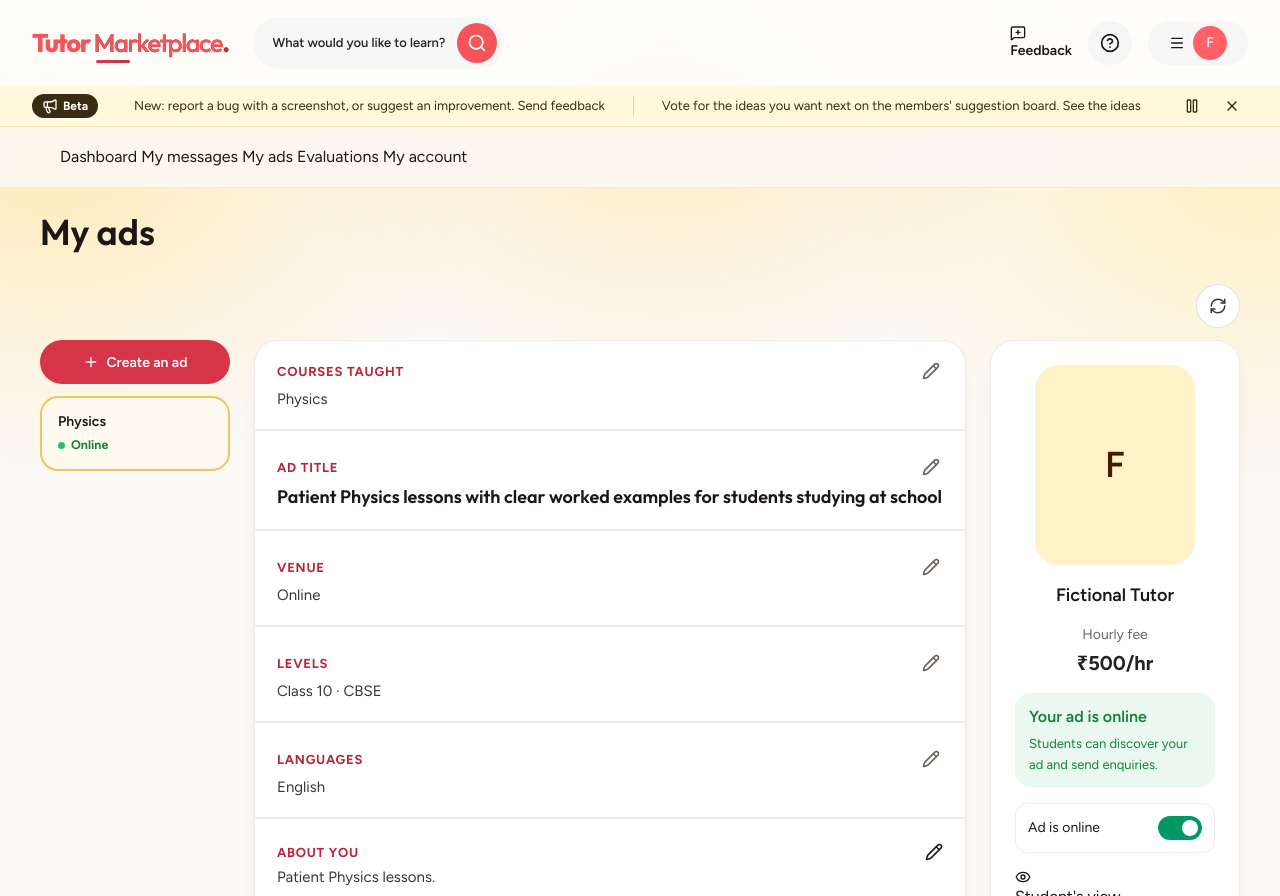
saves a photo-less private draft without publishing or altering existing ads
Click the button "Create an ad" at [135, 362], box [40,340,230,384]
(page scrolled)
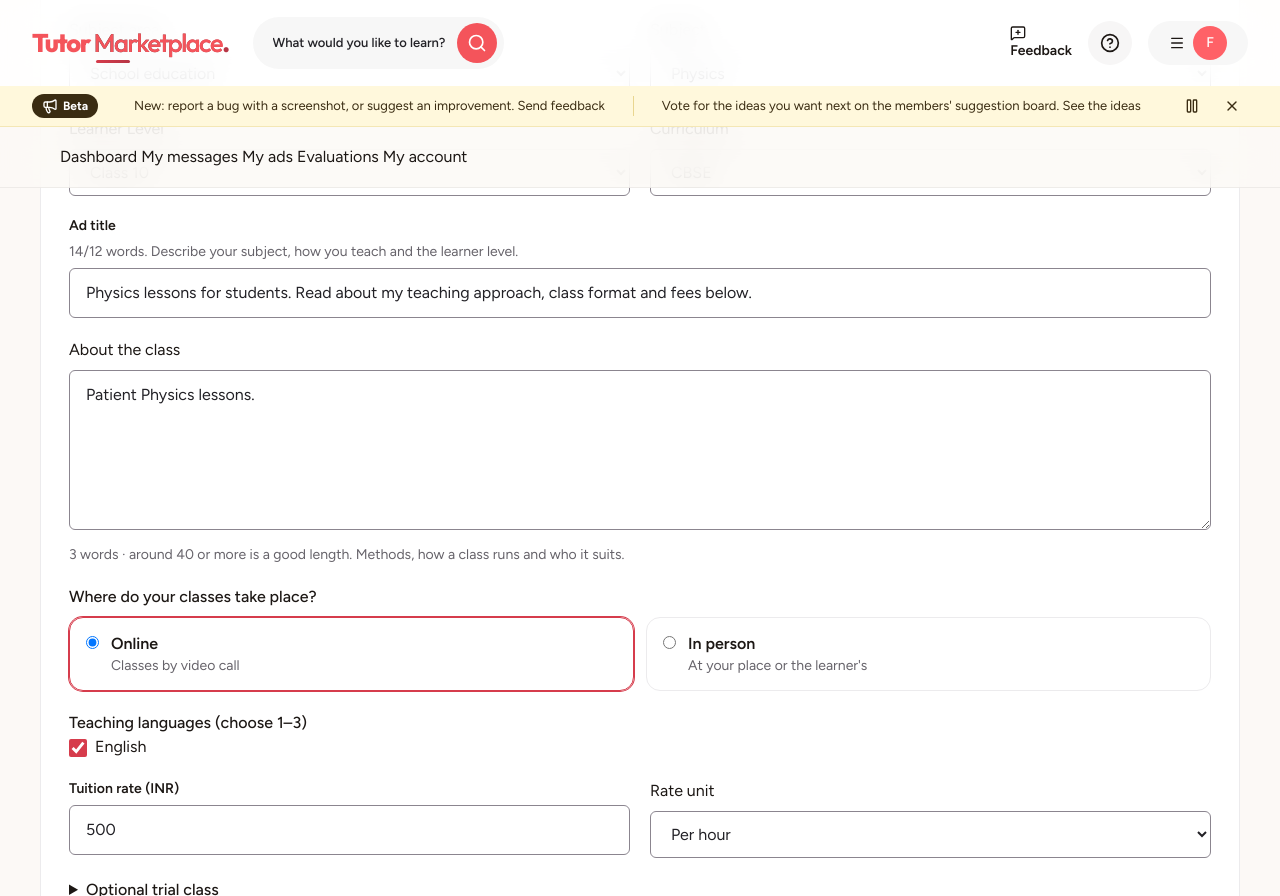
Replace the text in the text box labelled "About the class" with "A different class description." at [640, 450], box [69,370,1211,530]
(page scrolled)
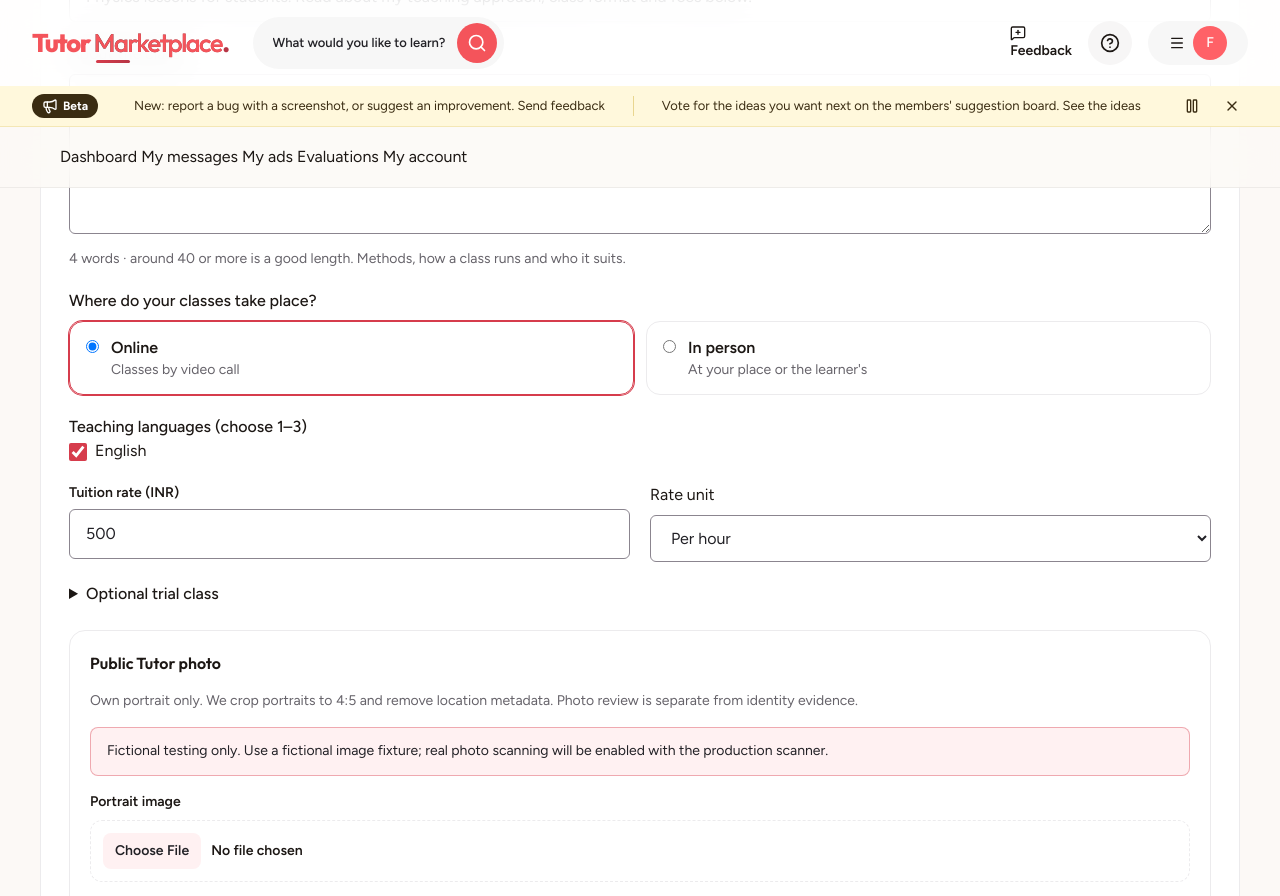
Submit the form named "Save as draft"
(page scrolled)
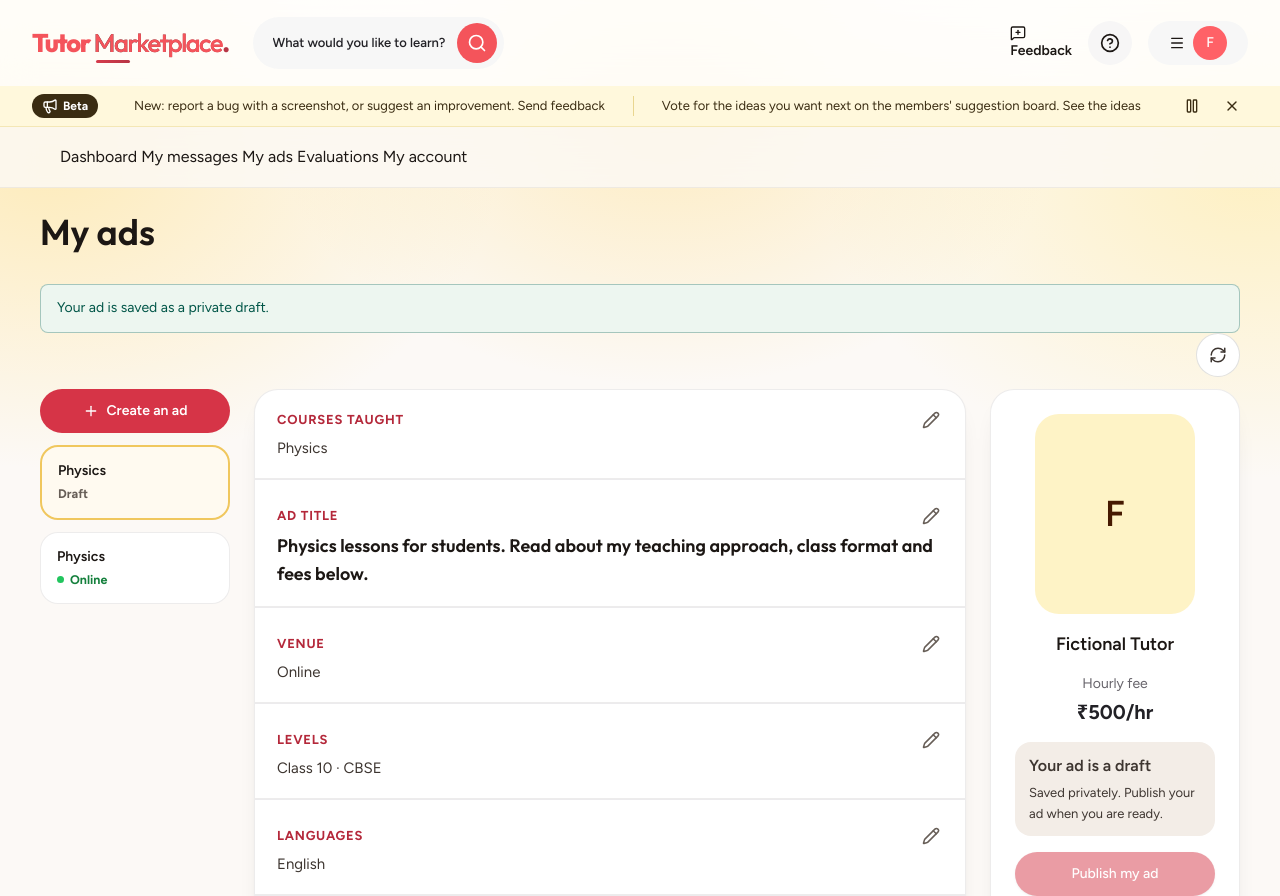
Expected: the text "Your ad is saved as a private draft." is shown, [40,284,1240,333]
